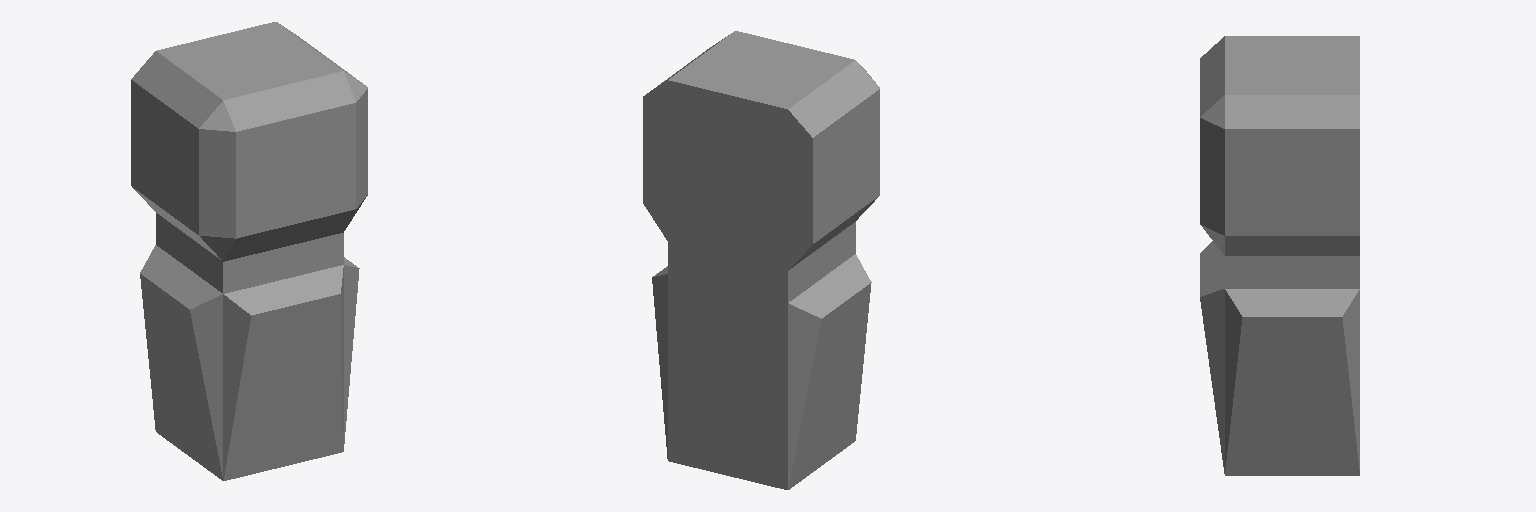
Rendered from overloaded_right_arm.obj.
3 views of the same model, side by side, from view 1: azimuth 30°, elevation 25°; view 2: azimuth 150°, elevation 25°; view 3: azimuth 270°, elevation 25° (orthographic).
Parts seen in each view (by area): view 1: right_arm_Cube.000; view 2: right_arm_Cube.000; view 3: right_arm_Cube.000.
Boxes of the visible parts, box(x1,y1,x2,y2) form: right_arm_Cube.000: box(131, 22, 367, 480); right_arm_Cube.000: box(643, 31, 879, 489); right_arm_Cube.000: box(1200, 36, 1359, 475).
Size of the model in its own units: 0.3812 by 0.8177 by 0.3119.